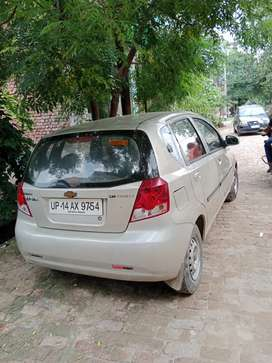UP14AX9754: (48, 199, 103, 214)
